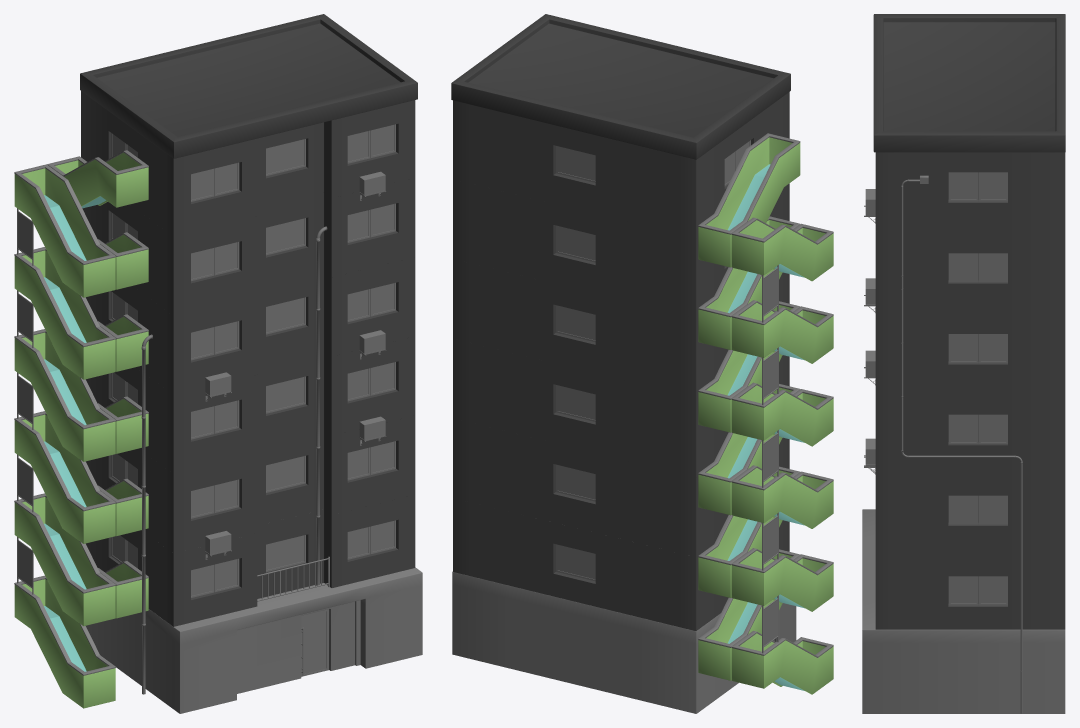
File: SM_apartment_building_03.fbx
3 renders of one model, left to right at view 1: azimuth 30°, elevation 25°; view 2: azimuth 150°, elevation 25°; view 3: azimuth 270°, elevation 25°, orthographic.
Parts seen in each view (by area): view 1: Box655; view 2: Box655; view 3: Box655.
Boxes of the visible parts, x1,y1,x2,y2 form: Box655: (14, 14, 422, 713); Box655: (451, 14, 833, 713); Box655: (862, 14, 1065, 713).
Bounding box in the file's own units: 538 × 935 × 298.
